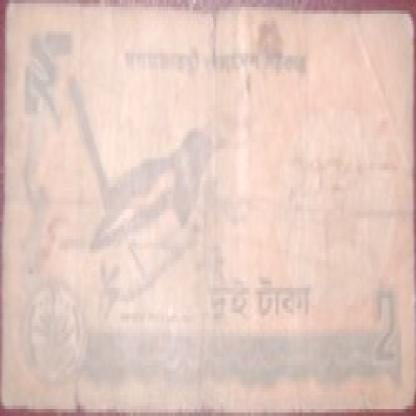two taka: (196, 281, 314, 340), (28, 35, 65, 121)
